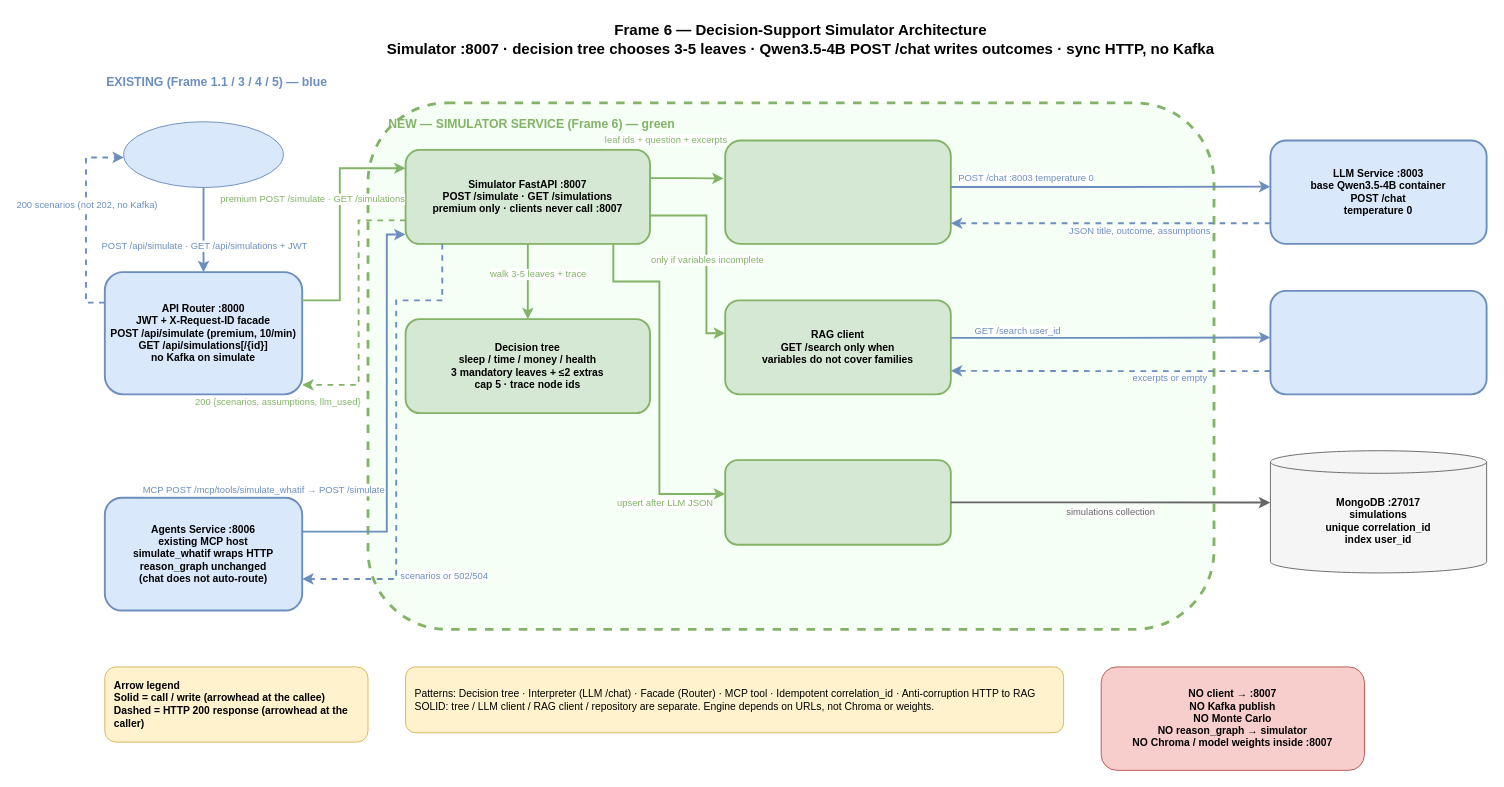
The diagram is 1504 pixels wide and 787 high, and some of its shapes have lost their labels. The shapes that lost their labels are listed below. From the top down, each one's centre as x and y in pixels, then its label:
At point (203, 154): "Client Web / Mobile".
At point (837, 191): "LLM client one POST /chat temperature 0 · retry JSON once does not load weights".
At point (1378, 342): "RAG Service :8002 GET /search user_id + X-Request-ID no Chroma access from here".
At point (837, 502): "simulations repository upsert on correlation_id list/get filter user_id".
